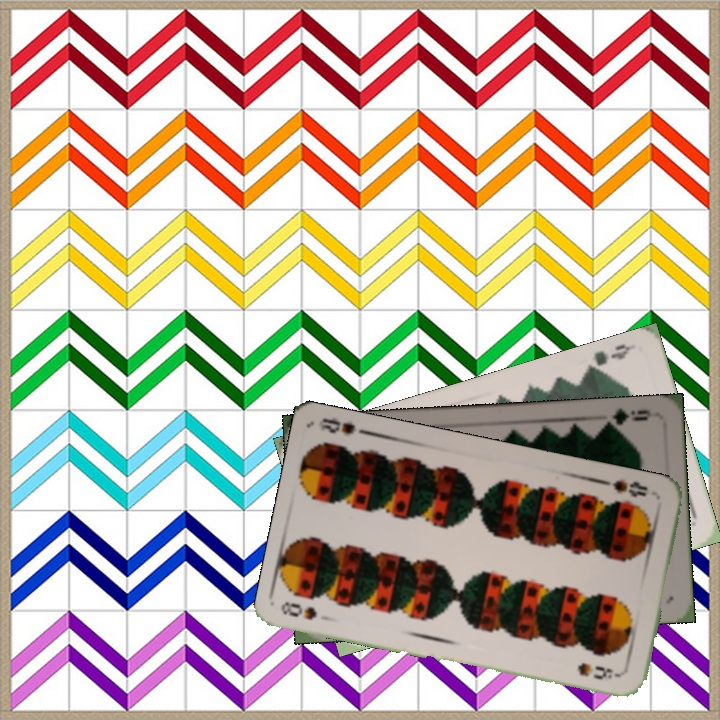G9: (581, 340, 636, 376), (599, 404, 657, 432)
S8: (601, 476, 650, 500), (278, 597, 320, 622)
